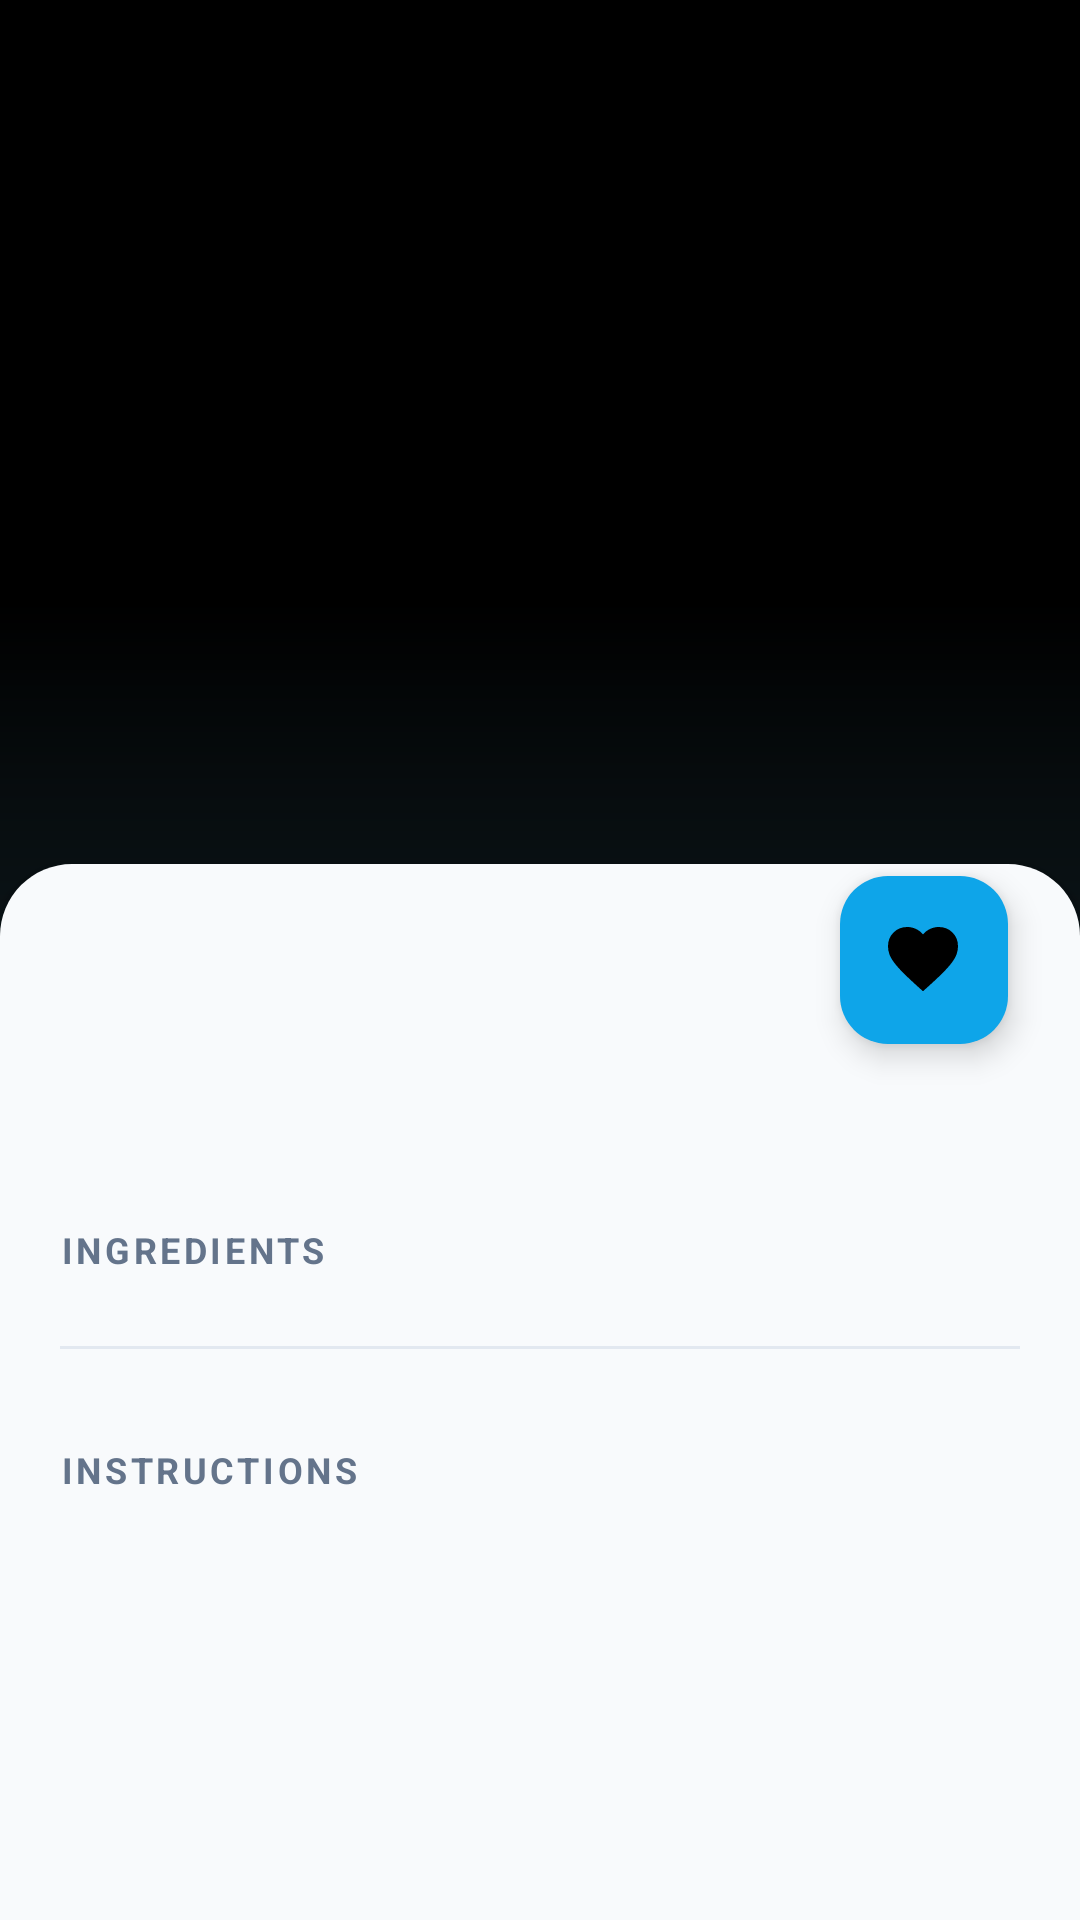

Icons on this 1080w x 1920h Android screen, each with its box as (x1, y1, x2, y2):
favorite: (840, 876, 1008, 1044)
